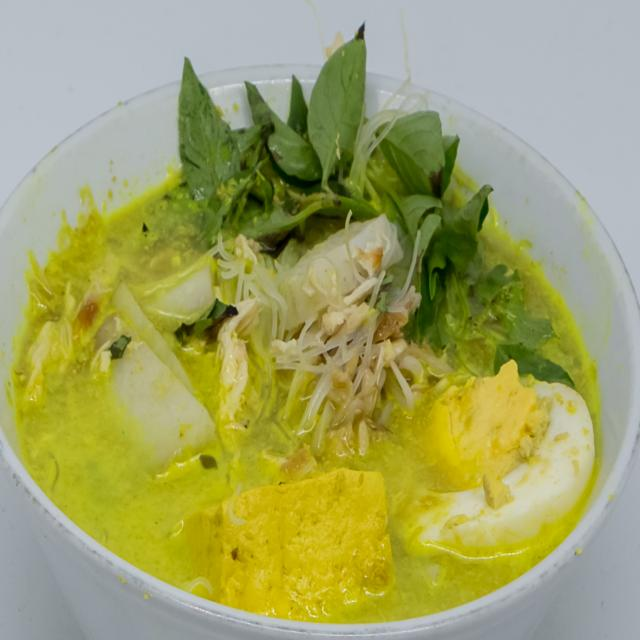Laksa-Bogor: (20, 25, 610, 629)
